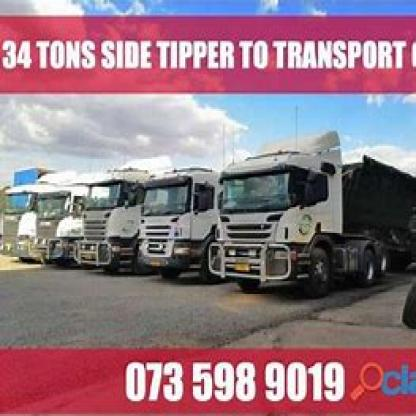dump_truck: (210, 124, 412, 290), (135, 135, 215, 288), (20, 152, 86, 300), (74, 148, 130, 283)
